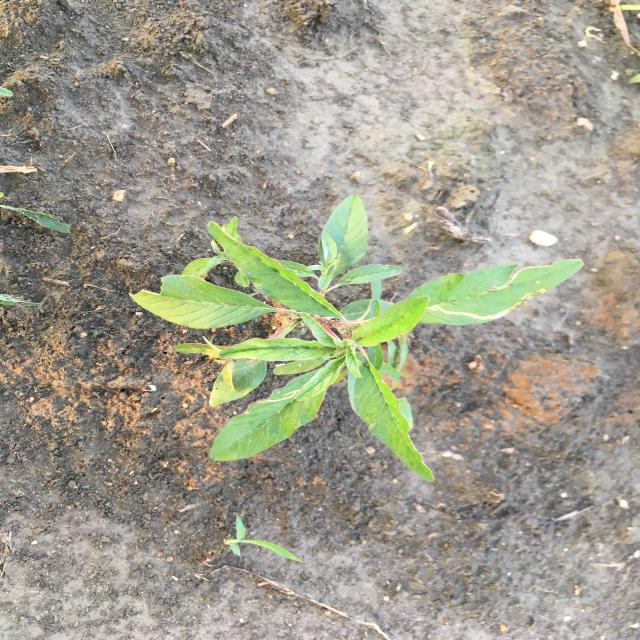Waterhemp: (126, 193, 587, 485)
